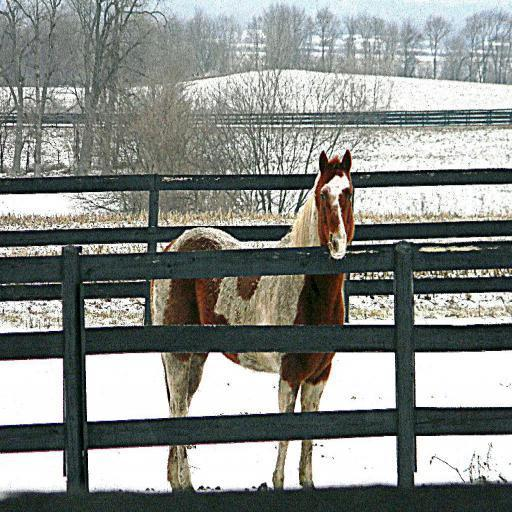horse: (150, 148, 356, 498)
